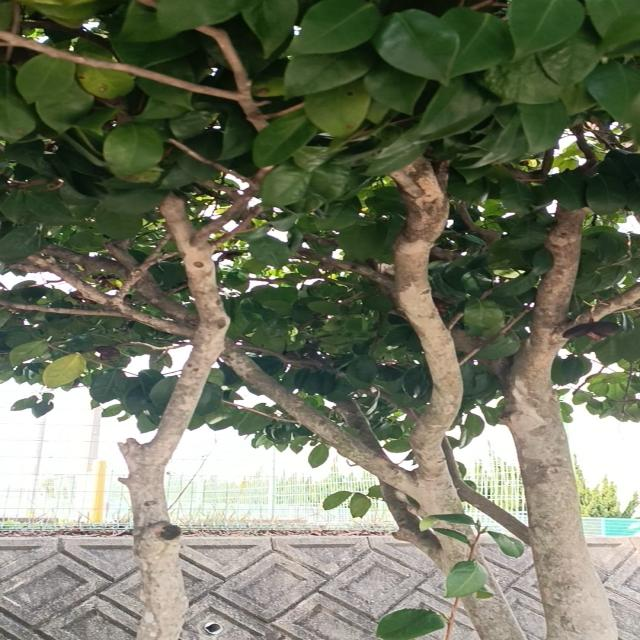Branch: (194, 322, 414, 492), (508, 202, 594, 554), (389, 153, 466, 476), (154, 189, 228, 454), (563, 284, 638, 335), (340, 392, 384, 458)
Twig: (26, 251, 189, 335), (438, 440, 530, 540), (173, 139, 258, 247), (105, 242, 194, 323), (284, 242, 396, 291), (117, 231, 167, 296), (0, 299, 126, 316)
